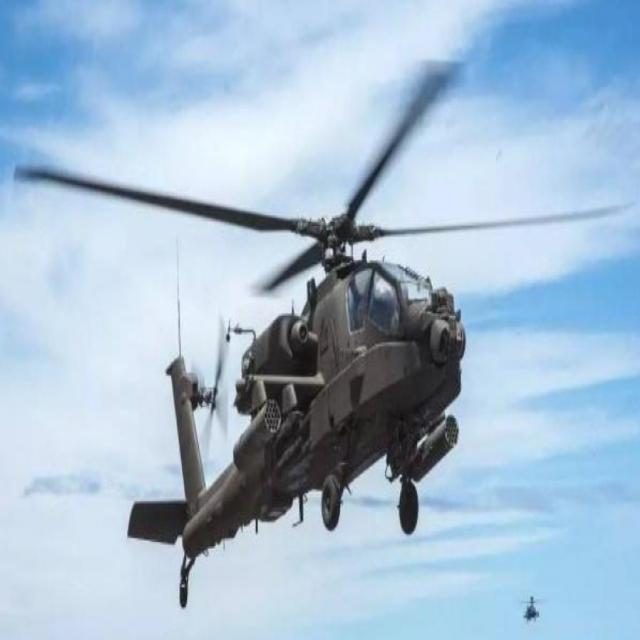MIL_HELO: (11, 38, 628, 621)
